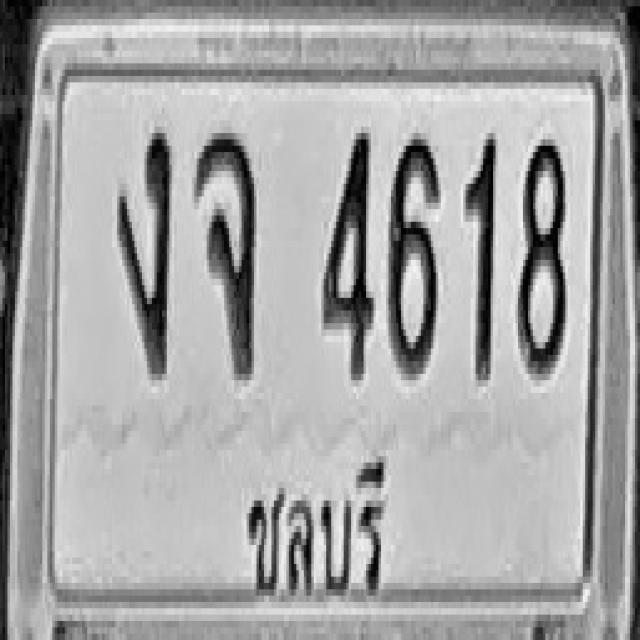1: (463, 133, 496, 380)
16NgorNgu: (116, 127, 170, 374)
17ChorChan: (194, 130, 257, 377)
4: (321, 127, 374, 380)
6: (388, 130, 438, 377)
8: (516, 133, 566, 374)
Chonburi: (228, 436, 400, 617)
